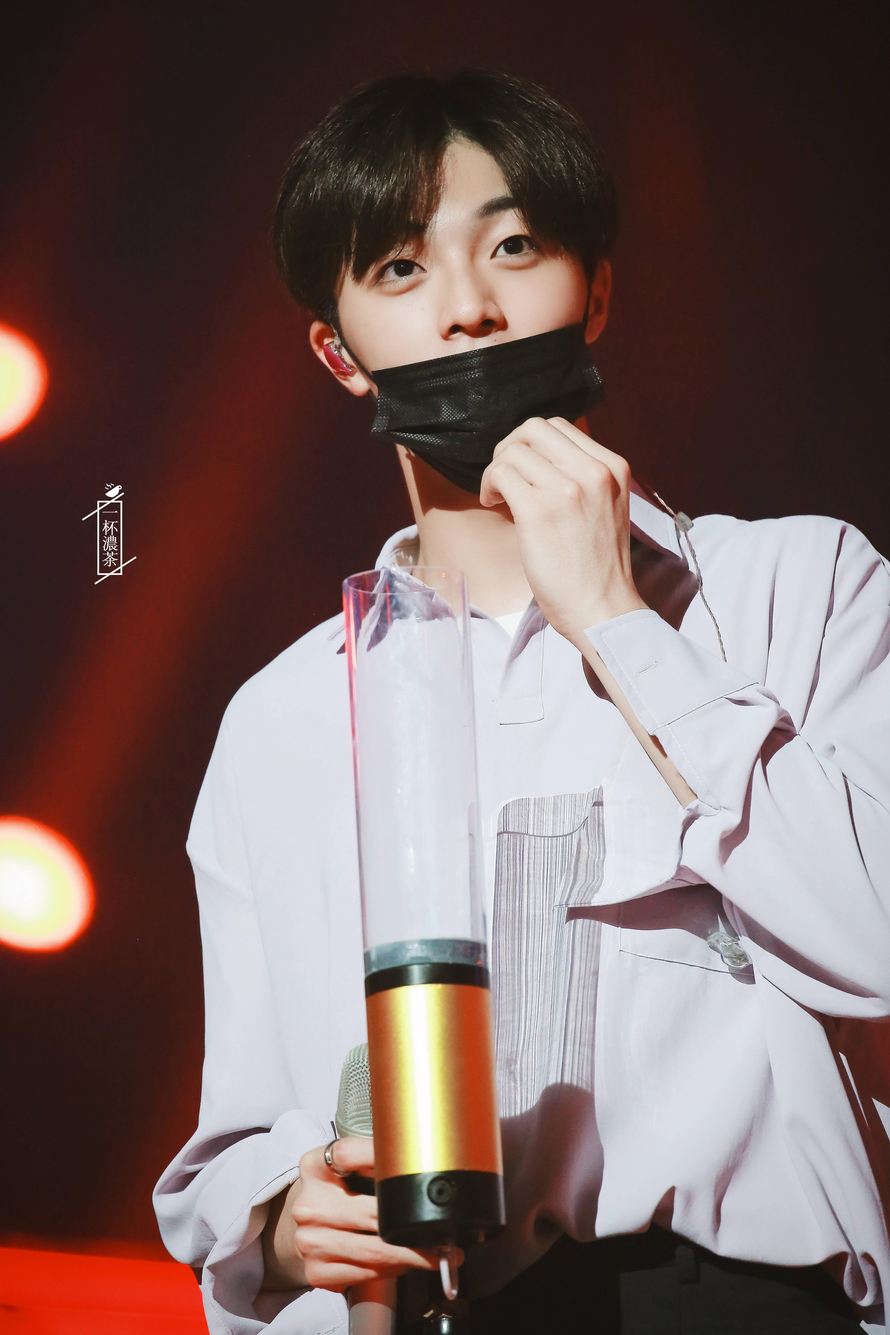WRONG: (332, 172, 599, 509)
